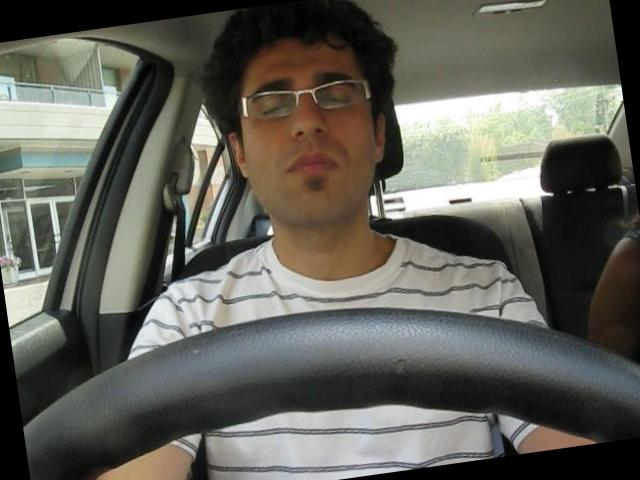eye_closed: (308, 84, 356, 116), (255, 94, 301, 122)
face: (229, 40, 386, 234)
